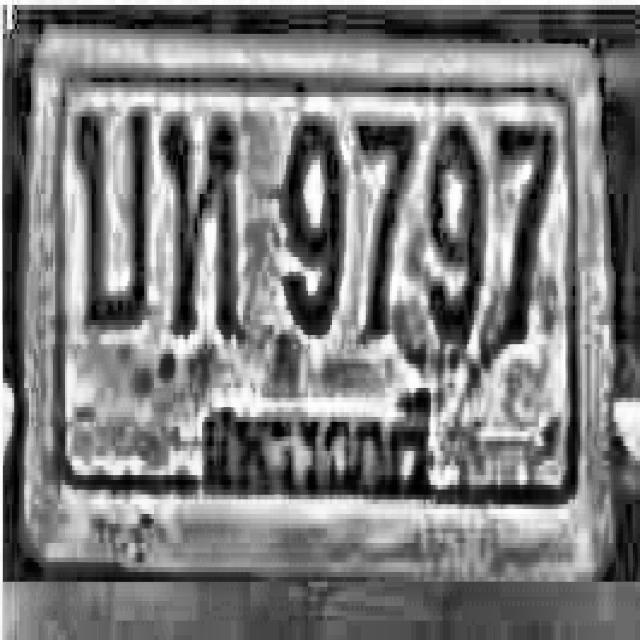license-plate: (20, 21, 615, 579)
